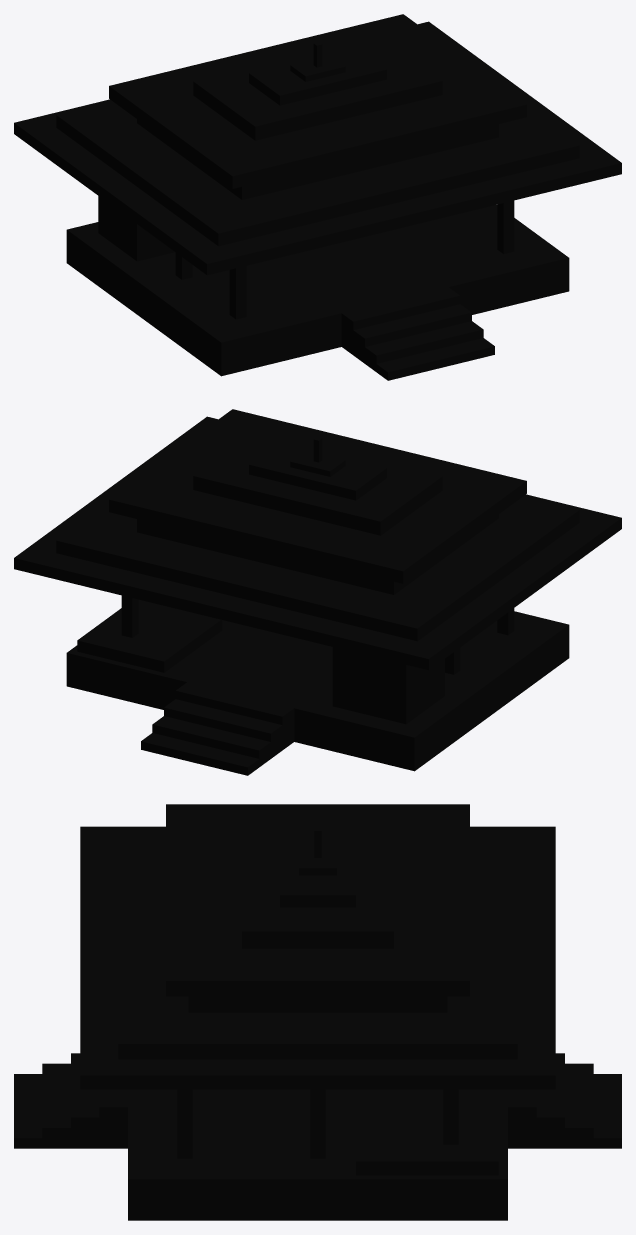
File: far_42-B3wD2l5B.glb
The picture shows the model from 3 angles, top to bottom: view 1: azimuth 30°, elevation 25°; view 2: azimuth 150°, elevation 25°; view 3: azimuth 270°, elevation 25°; orthographic projection. The views are drawn at different scales.
Parts seen in each view (by area): view 1: farBaked_42; view 2: farBaked_42; view 3: farBaked_42.
Boxes of the visible parts, box(x1,y1,x2,y2) form: farBaked_42: box(14, 14, 621, 380); farBaked_42: box(14, 409, 621, 775); farBaked_42: box(14, 804, 621, 1220).
Size of the model in its own units: 15.5 by 8.33 by 16.
Materials: 1 (1 with a texture image).
